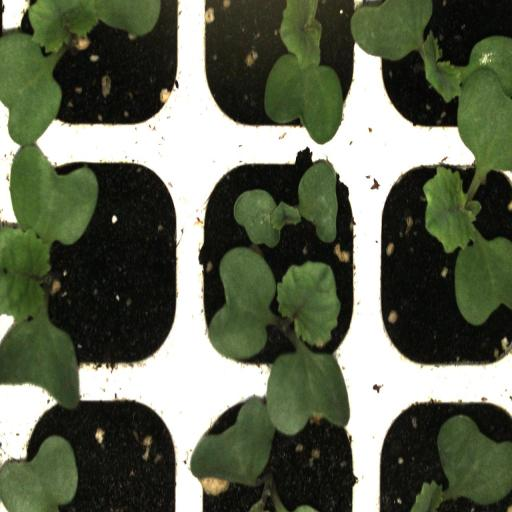Folha: (264, 0, 344, 145), (411, 414, 512, 512)
Germinacao: (181, 143, 368, 386), (11, 141, 178, 386), (370, 144, 512, 387), (0, 0, 190, 136), (374, 0, 512, 142)
